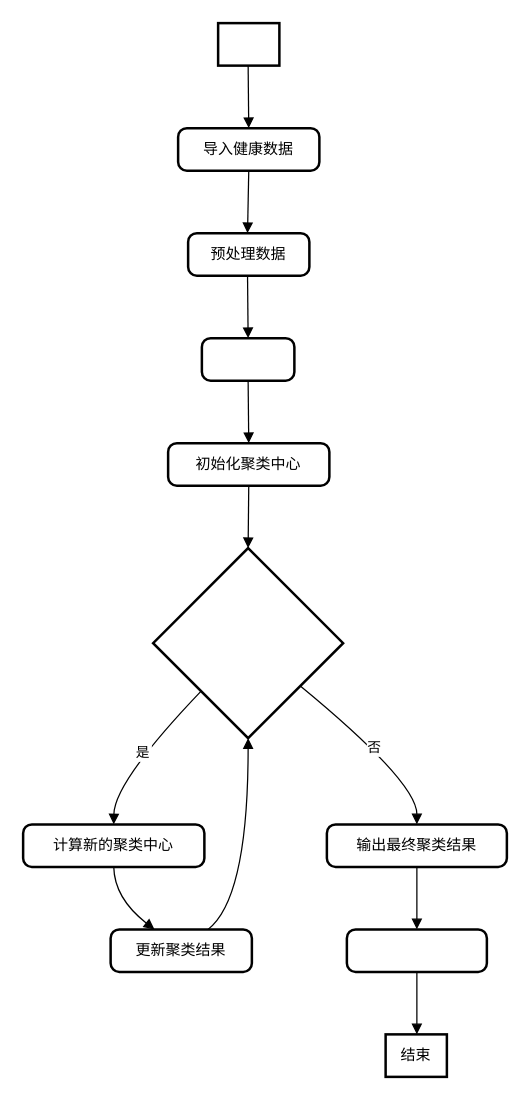
Some shapes in this 529 by 1099 pixel diagram are drawn without their labels. Here are the shapes that lost their labels. From the top down, the centre of each, then its label:
[248,43]: 开始
[247,358]: 选择K值
[247,642]: 达到停止条件?
[416,950]: 评估算法性能
